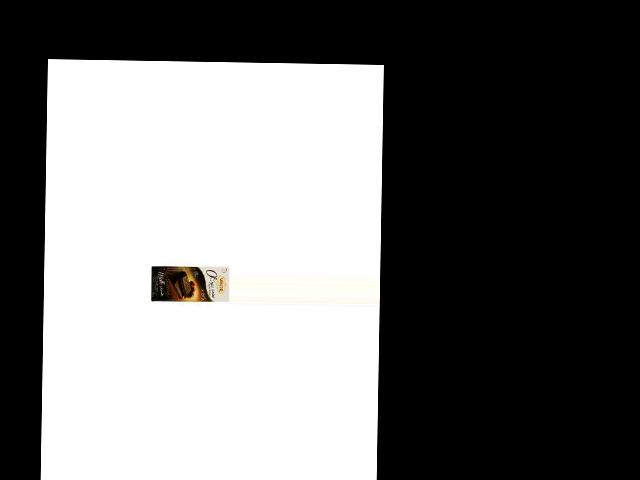chocolate: (150, 263, 229, 304)
